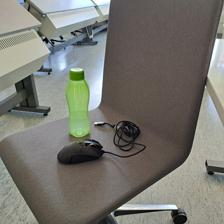bottle: (65, 67, 91, 137)
mouse: (56, 138, 103, 165)
